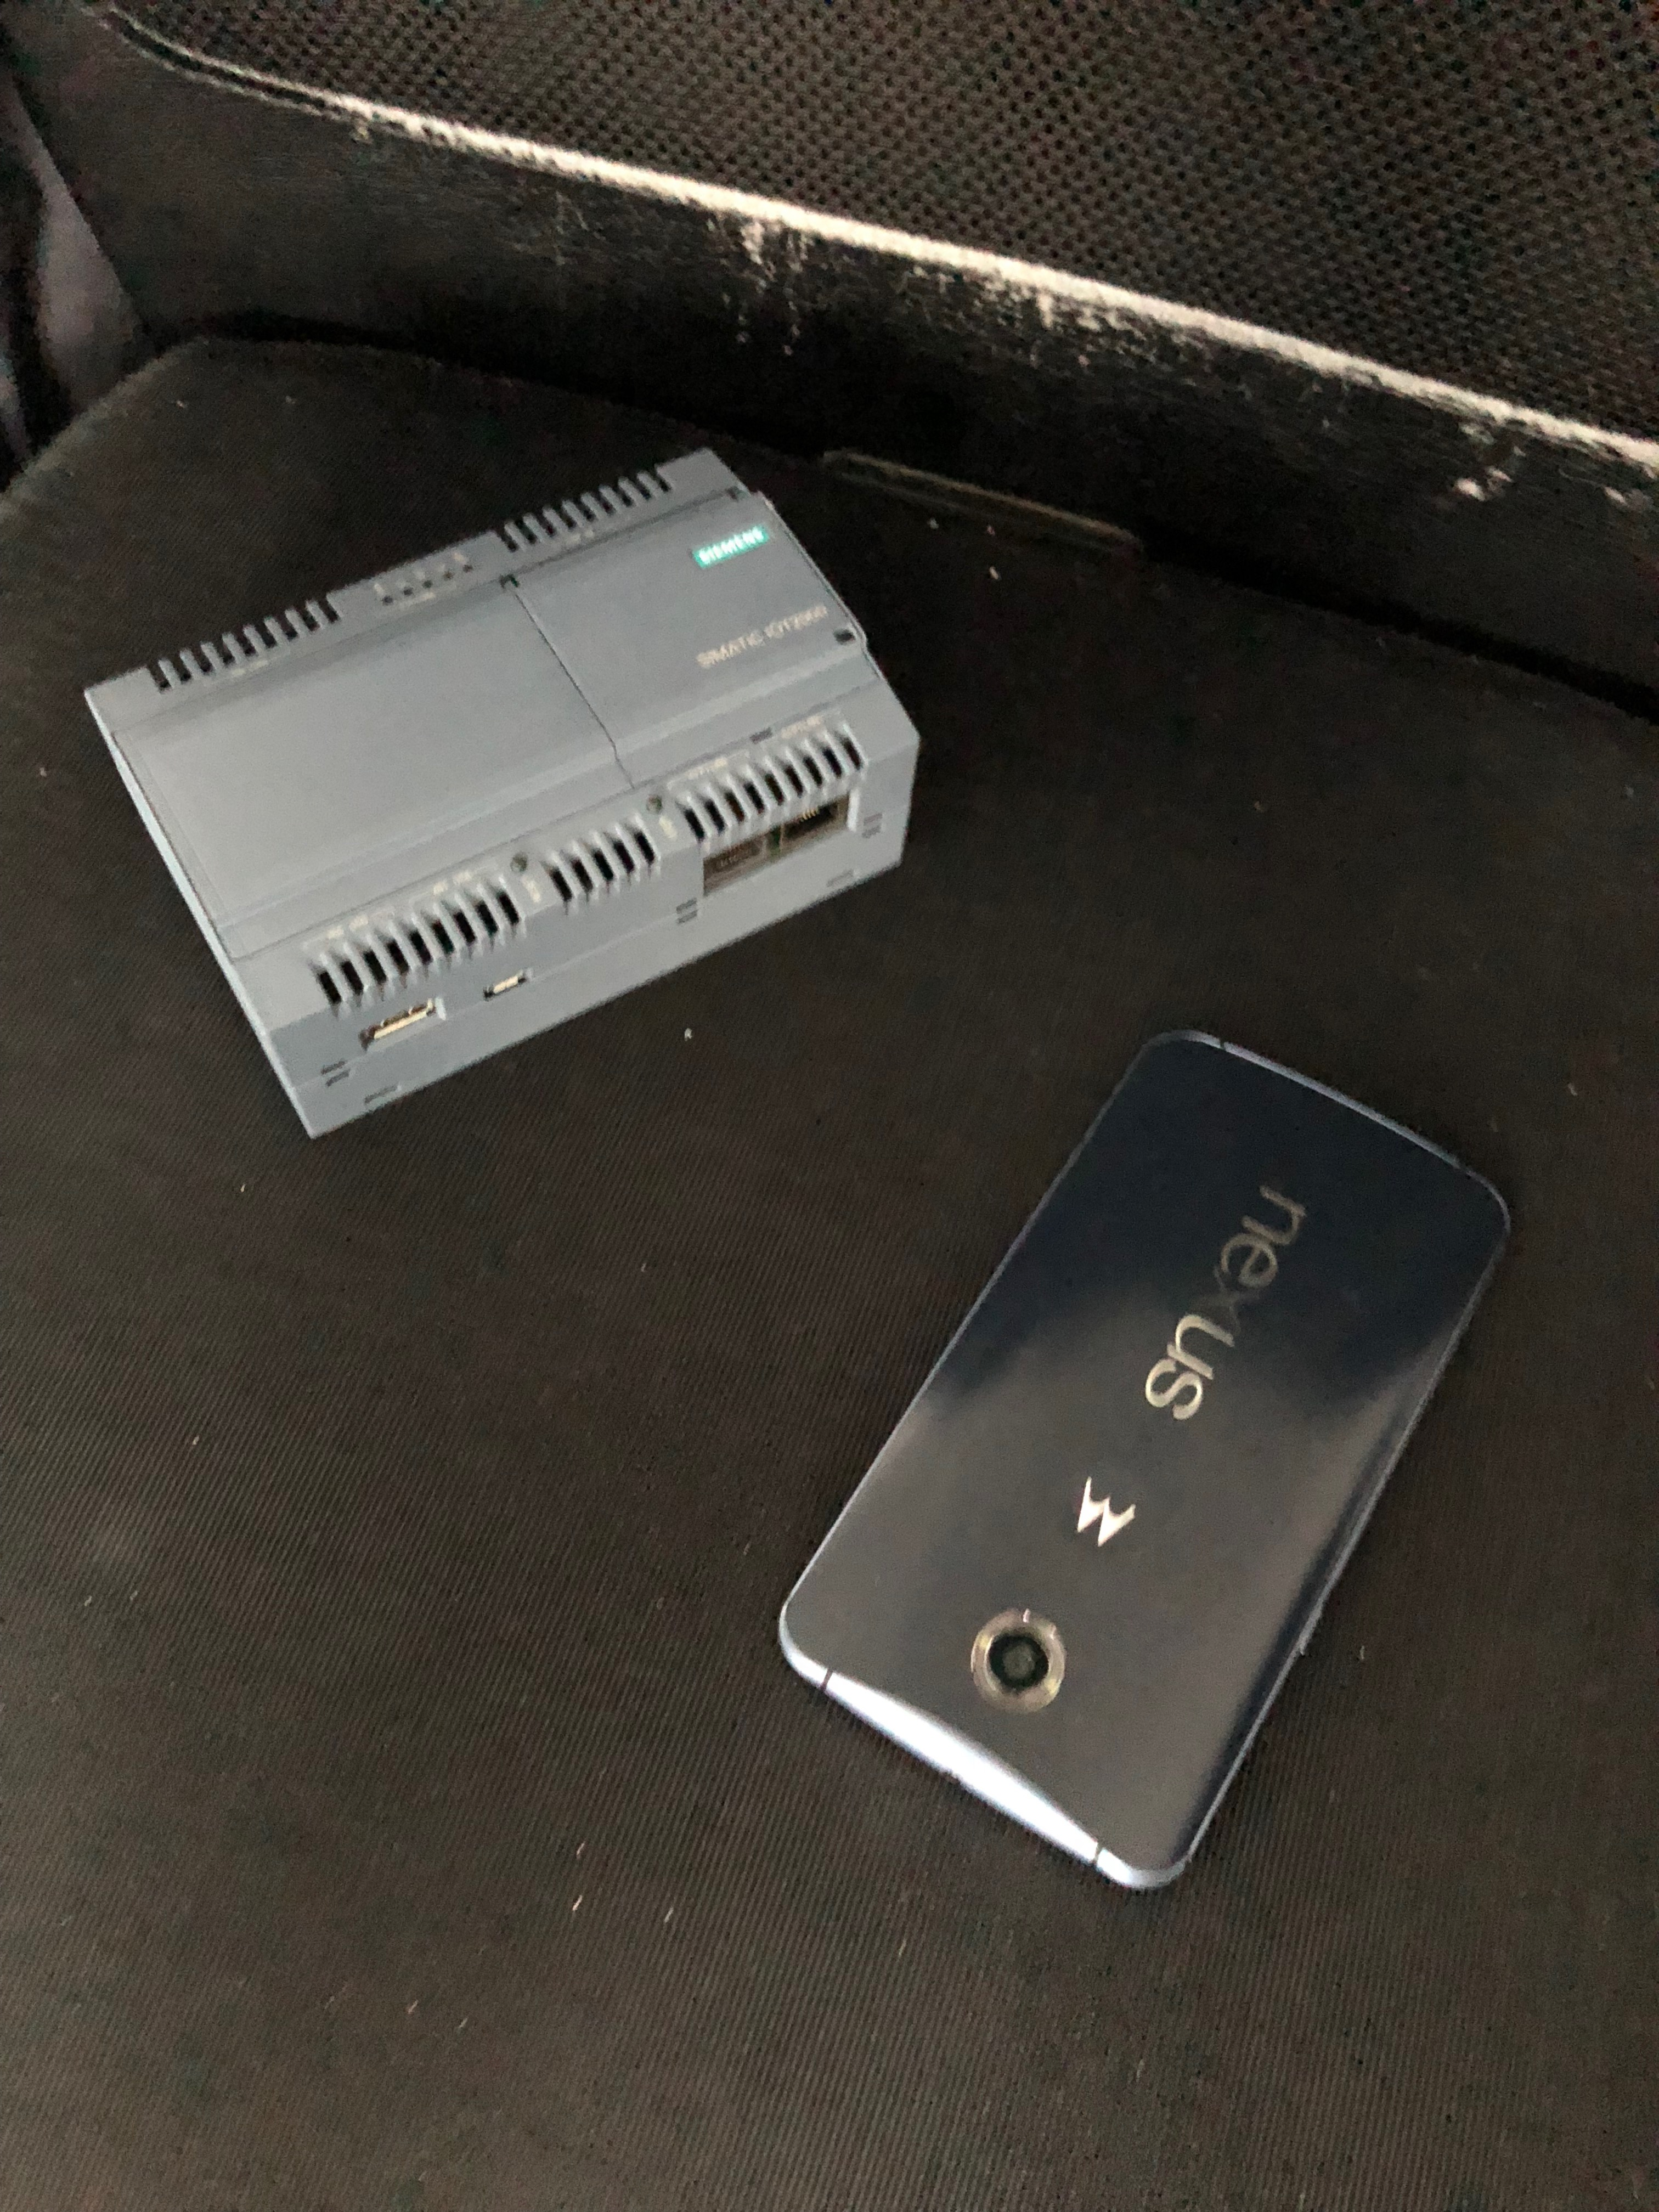device: (84, 448, 920, 1139)
